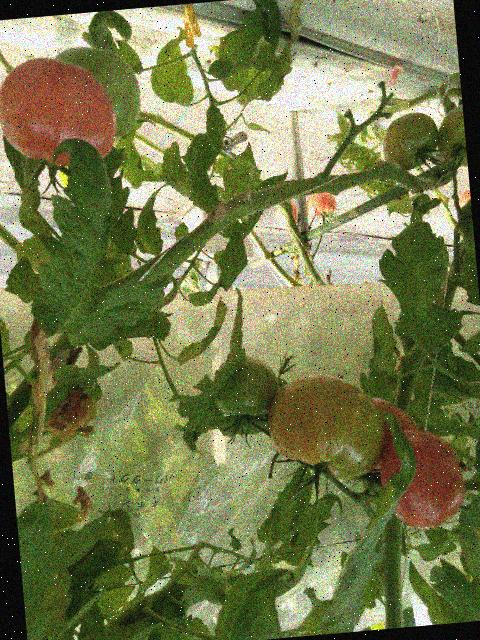b_fully_ripened: (0, 50, 121, 171), (375, 425, 467, 534), (305, 191, 337, 218)
b_green: (51, 41, 145, 143), (209, 351, 281, 418), (379, 110, 441, 172), (433, 102, 468, 170)
b_half_ripened: (263, 367, 387, 486), (371, 392, 421, 445)
